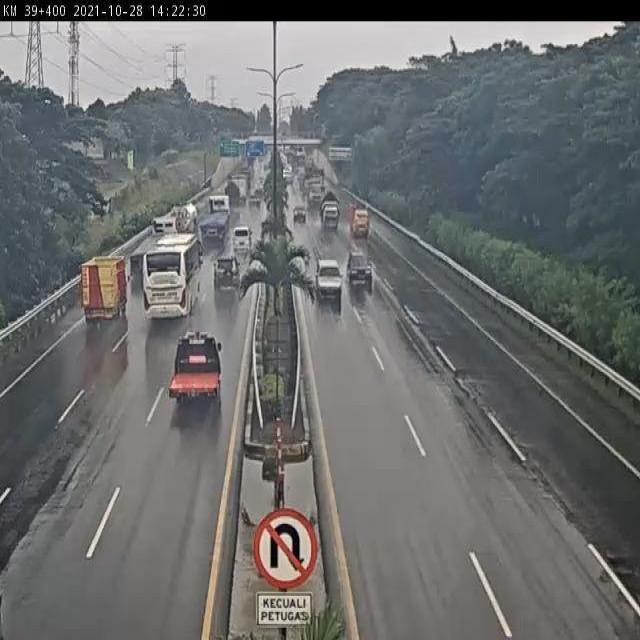big bus: (140, 233, 201, 319)
big truck: (133, 215, 172, 272), (197, 192, 230, 251)
car: (169, 330, 226, 414), (211, 254, 242, 298), (315, 253, 342, 300), (345, 249, 374, 292), (232, 223, 254, 252), (291, 204, 309, 227), (248, 192, 263, 213), (251, 186, 264, 206)
small truck: (77, 252, 124, 327), (166, 203, 196, 237), (321, 192, 342, 236), (347, 202, 372, 238), (217, 183, 238, 216)
